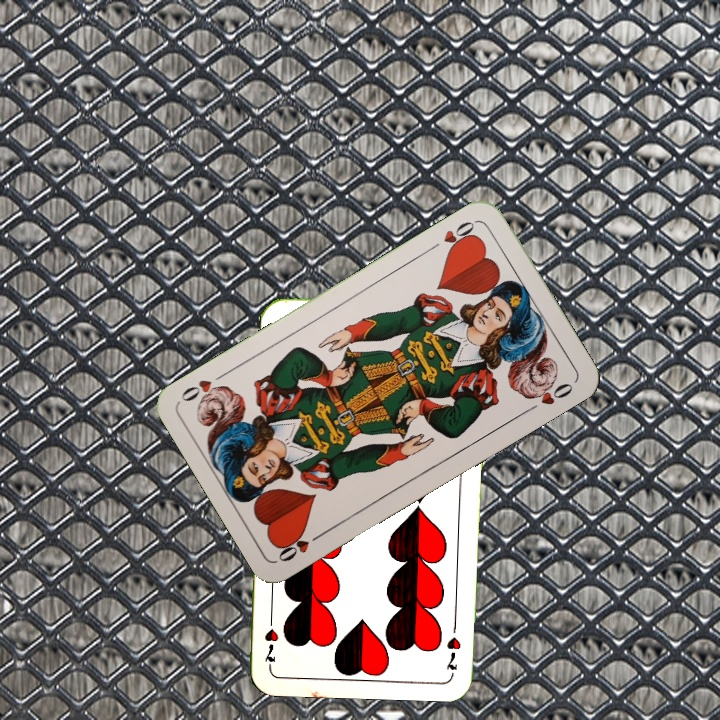H7: (442, 616, 464, 675)
HO: (425, 217, 479, 256), (274, 527, 328, 565)
